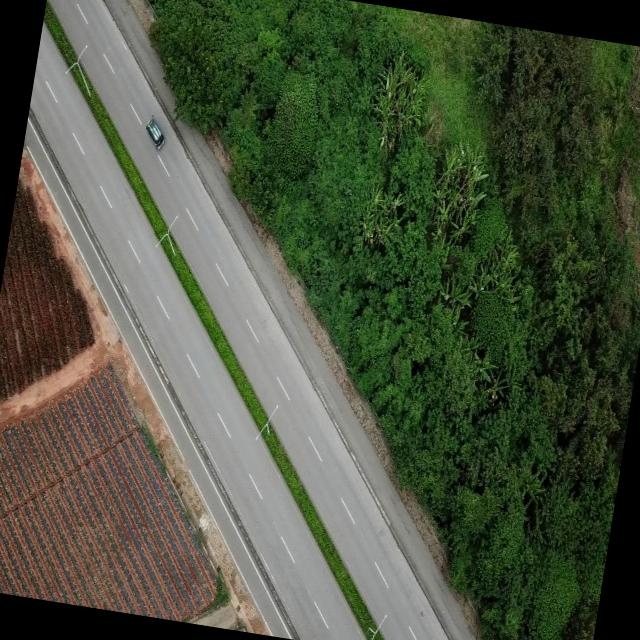car: (144, 114, 168, 150)
